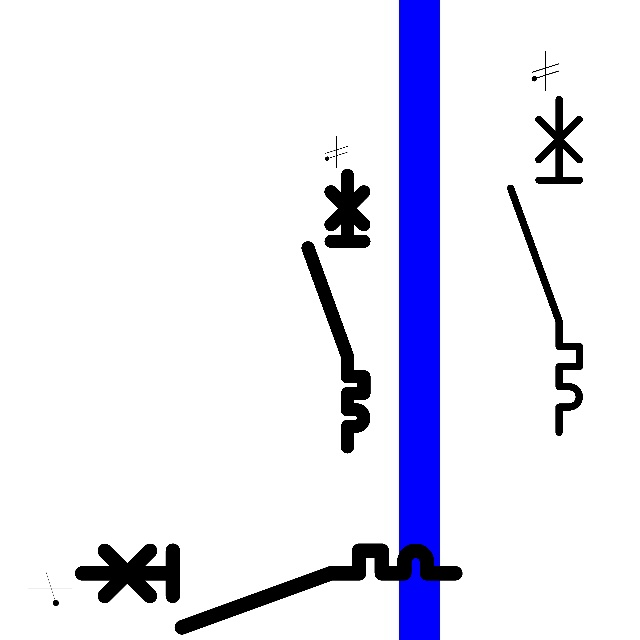interruptor_termomagnetico: (72, 541, 465, 637), (502, 90, 588, 441), (301, 168, 371, 453)
